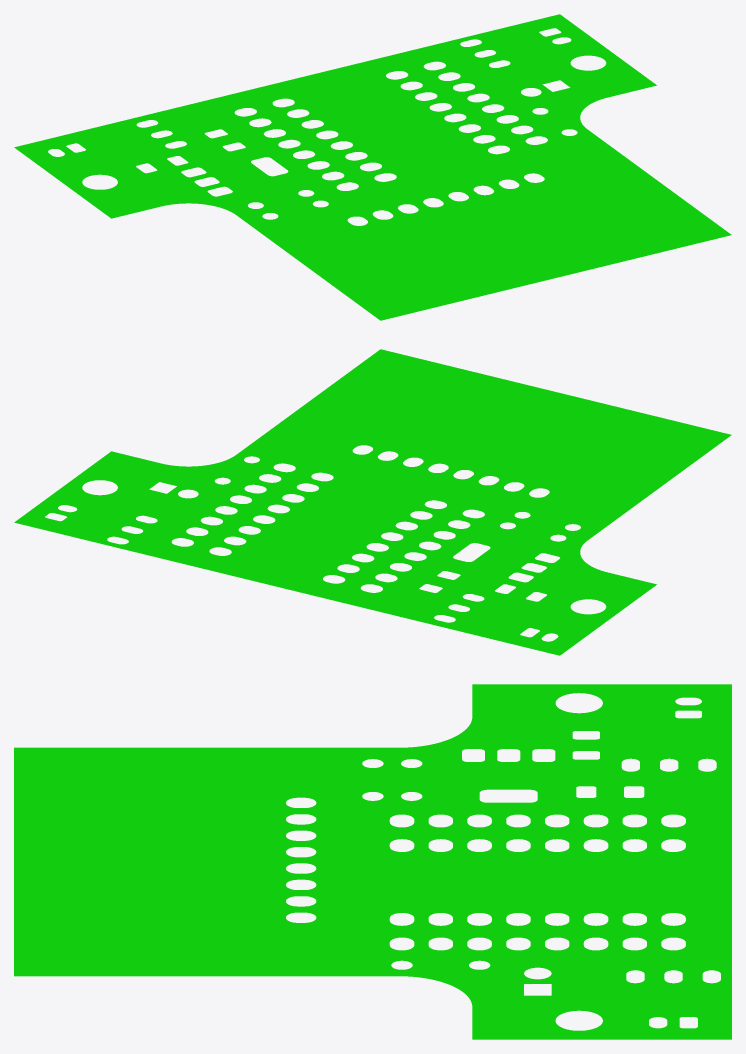
Rendered from pendulum_robot_2_wheels_mini_motor_inverted_pendulum_soldermask001_1sowbn.dae.
3 views of the same model, one above another, from view 1: azimuth 30°, elevation 25°; view 2: azimuth 150°, elevation 25°; view 3: azimuth 270°, elevation 25° (orthographic). The views are drawn at different scales.
Parts seen in each view (by area): view 1: node0; view 2: node0; view 3: node0.
Boxes of the visible parts, x1,y1,x2,y2 form: node0: (14, 14, 731, 320); node0: (14, 349, 731, 655); node0: (14, 684, 731, 1039).
Bounding box in the file's own units: 0.055 × 0.047 × 0.
